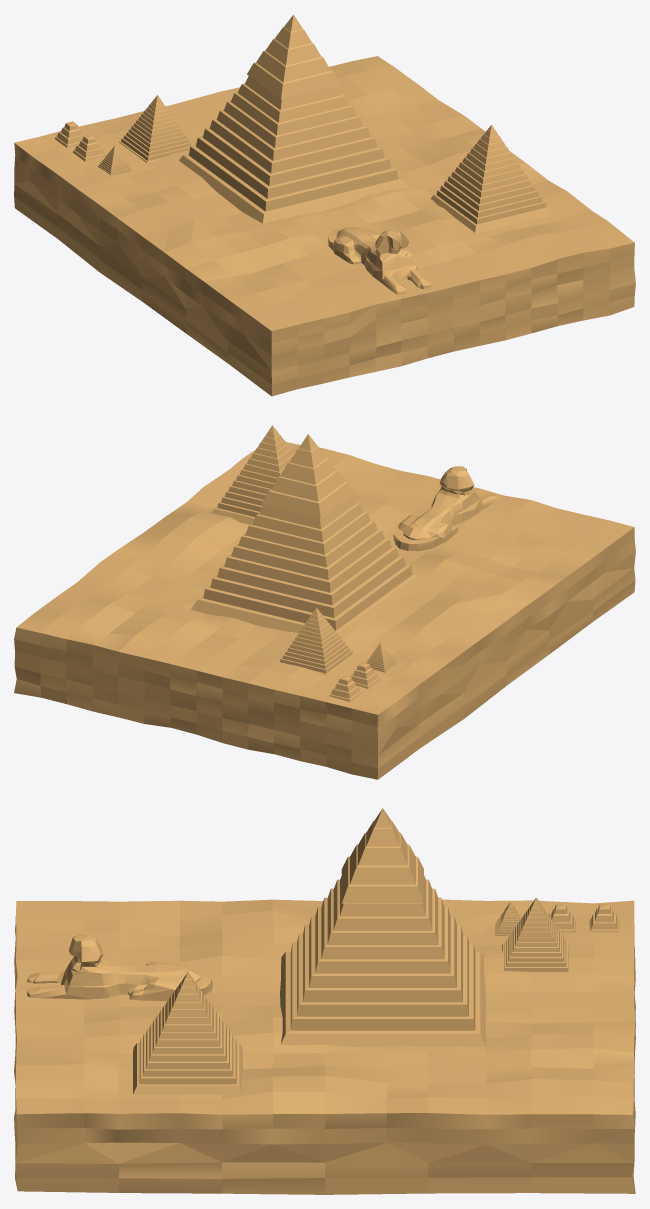
Rendered from Egypt-Giza-Pyramids.glb.
3 renders of one model, top to bottom at view 1: azimuth 30°, elevation 25°; view 2: azimuth 150°, elevation 25°; view 3: azimuth 270°, elevation 25°, orthographic. The views are drawn at different scales.
Visible parts, largest first — view 1: model_2.107, model_2.118; view 2: model_2.107, model_2.118; view 3: model_2.107, model_2.118.
Boxes of the visible parts, box(x1,y1,x2,y2) form: model_2.107: box(14, 56, 635, 396); model_2.118: box(55, 15, 553, 232); model_2.107: box(14, 442, 635, 779); model_2.118: box(191, 425, 423, 701); model_2.107: box(14, 899, 635, 1194); model_2.118: box(133, 808, 619, 1094).
Bounding box in the file's own units: 0.3271 × 0.1955 × 0.3996.
